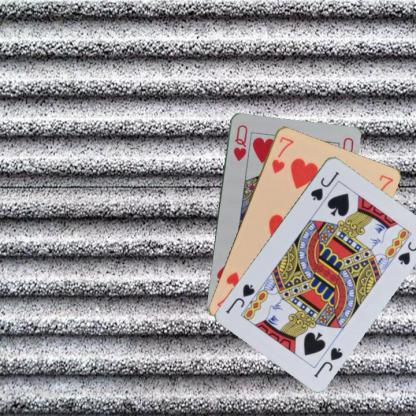7h: (269, 134, 295, 174)
Js: (307, 168, 341, 202), (311, 344, 344, 378)
Qh: (230, 122, 249, 162)
